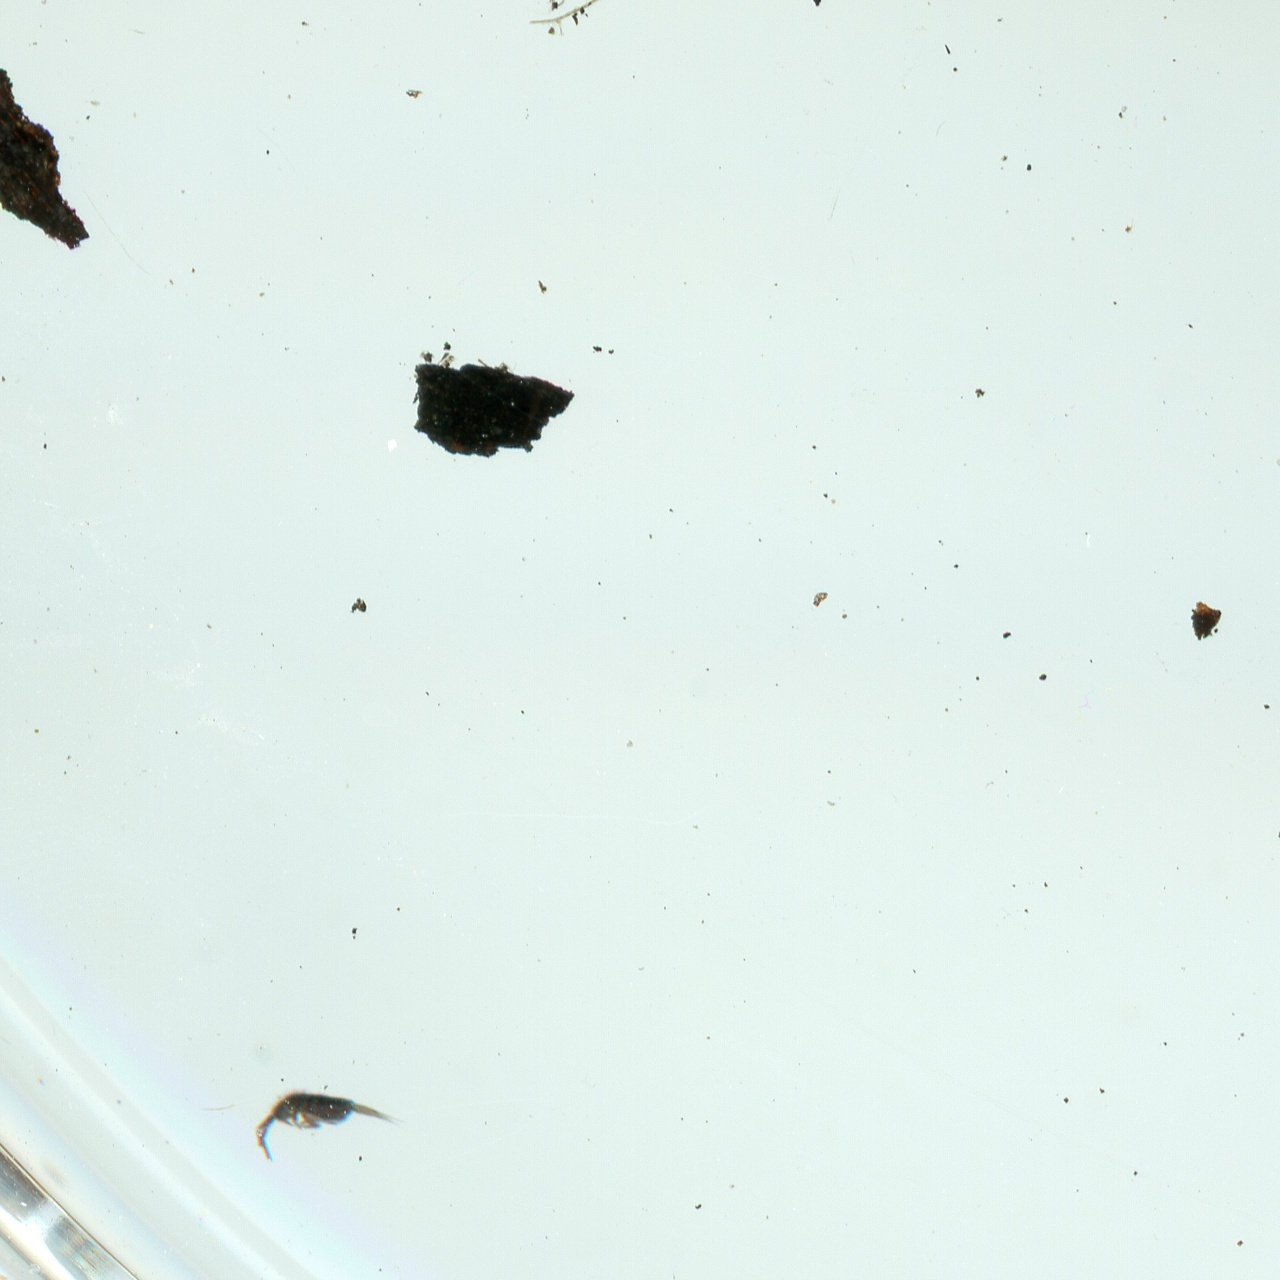arthropod: (253, 1089, 400, 1159)
